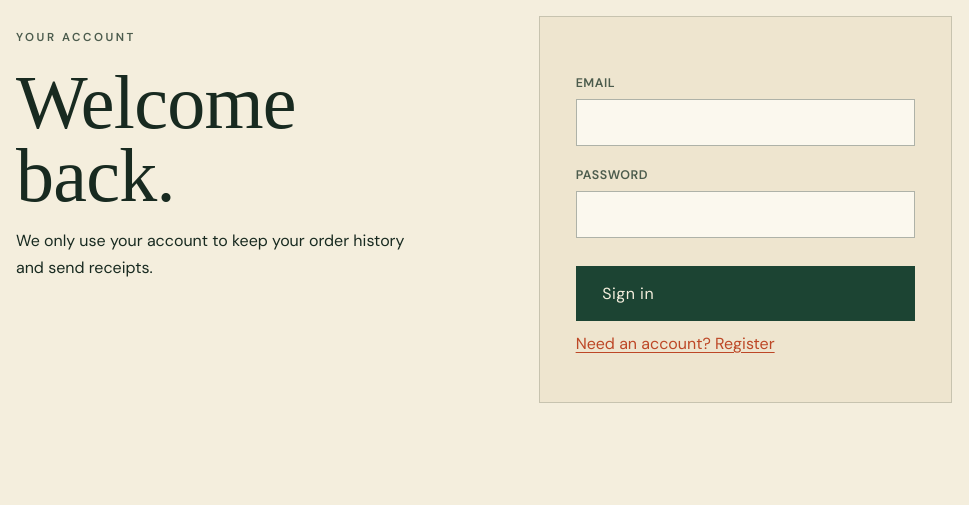
AuthPage › shows an error message when login fails with 401
The image size is (969, 505).
Type "shopper@example.com" into the field labelled "Email" at coordinates (745, 122), box [576,99,915,146]
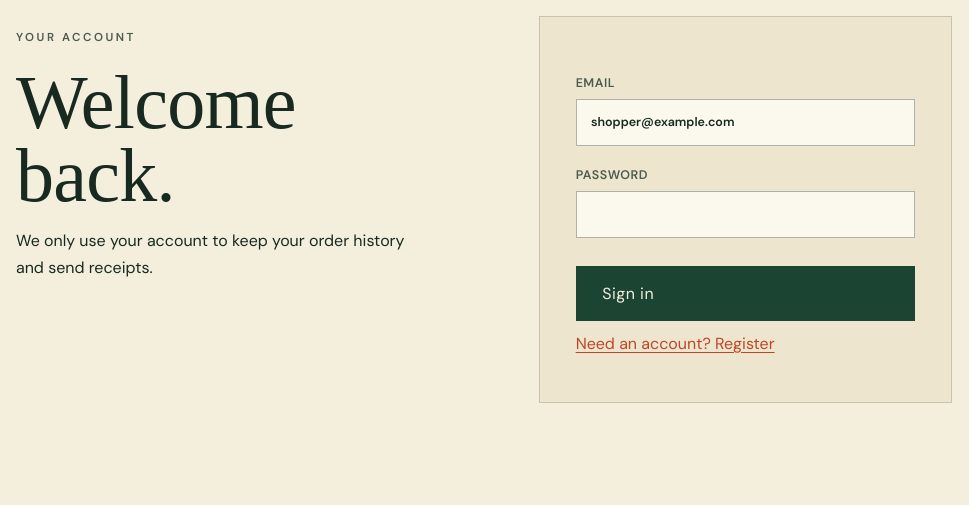
Type "wrong-password" into the password field labelled "Password" at coordinates (745, 215), box [576,191,915,238]
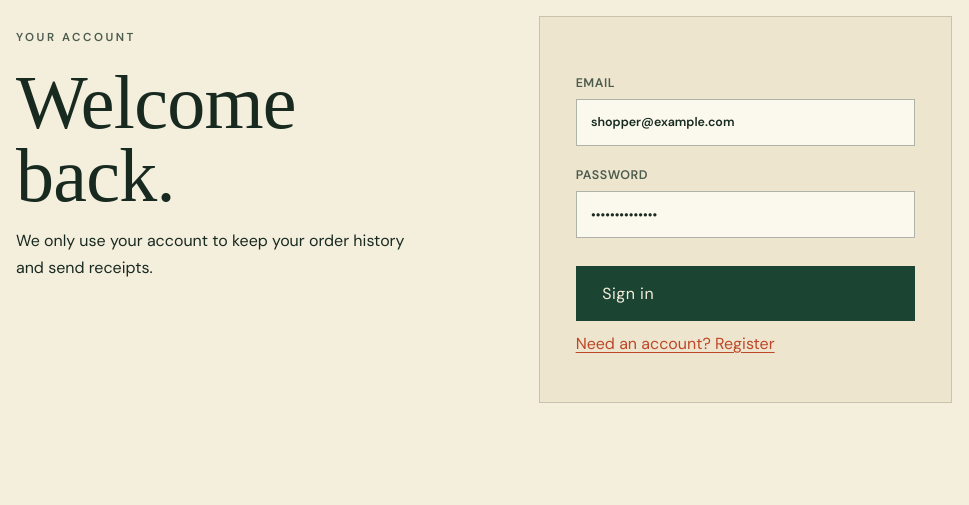
Submit the form, box [539,16,952,403]
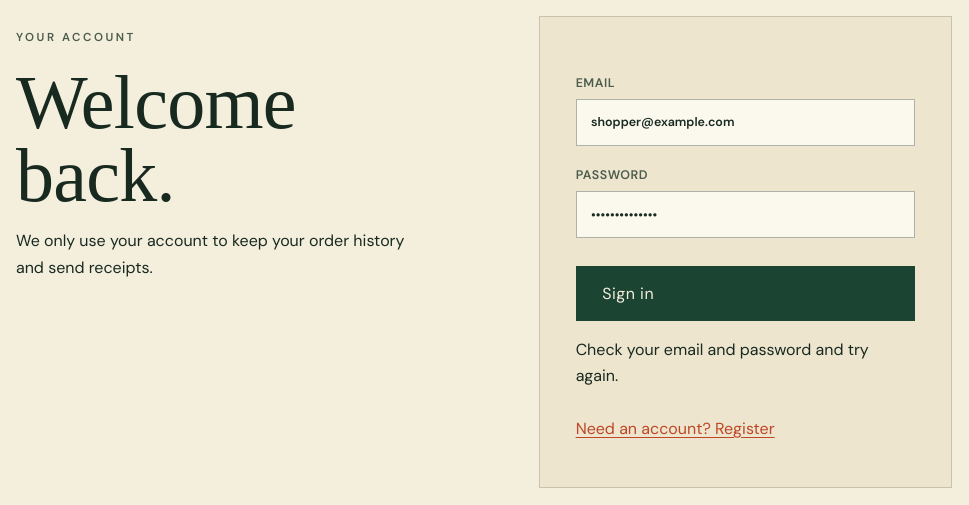
Check: the message reads "Check your email and password and try again.", box [576,339,869,386]
